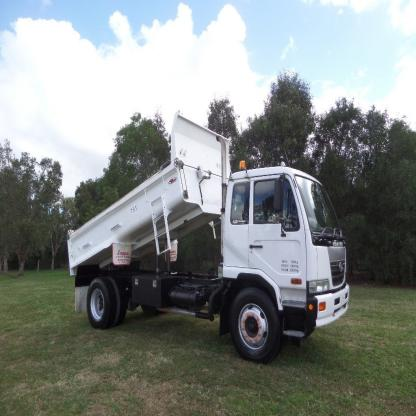dump_truck: (58, 103, 352, 370)
